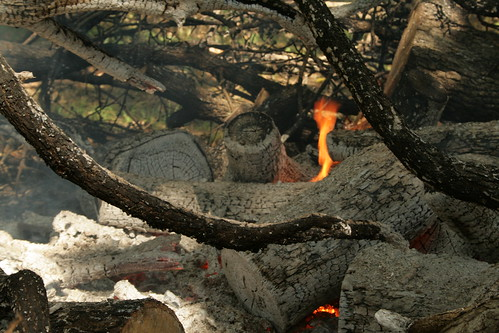fire: (230, 100, 417, 333)
